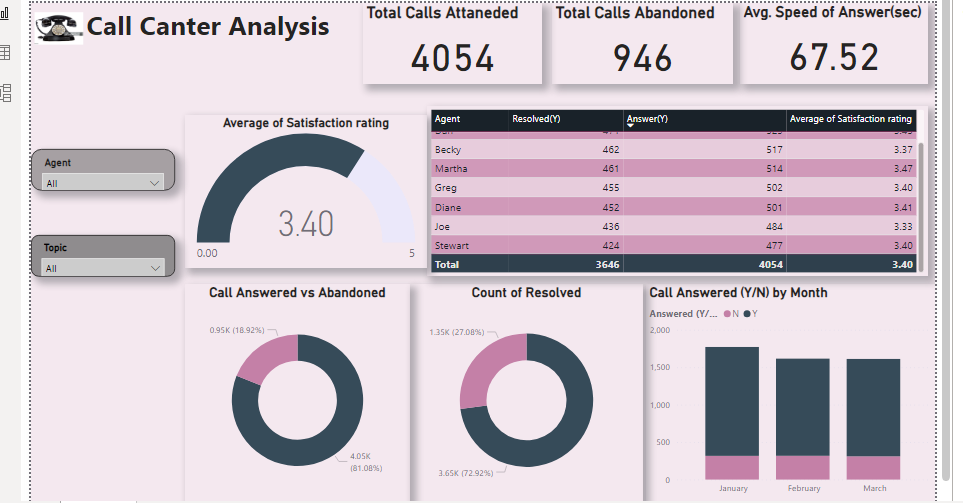

Layout of this report page (visuals, bound fields, positions):
{"tool":"powerbi","page":{"name":"Page 1","canvas":[1280,720],"ordinal":0},"visuals":[{"type":"card","title":"Total Calls Attaneded","fields":{"Values":["Sheet1.Answered (Y/N)"]},"box":[470.1,0,253.5,114.7],"z":0},{"type":"card","title":"Total Calls Abandoned","fields":{"Values":["Sheet1.Answered (Y/N)"]},"box":[737.7,0,256.3,114.7],"z":1000},{"type":"card","title":"Avg.  Speed of Answer(sec)","fields":{"Values":["Sheet1.Speed of answer in seconds"]},"box":[1003.9,0,266.2,114.7],"z":2000},{"type":"gauge","title":"Average of Satisfaction rating ","fields":{"Y":["Sheet1.Satisfaction rating"],"MaxValue":["Sheet1.Satisfaction rating"]},"box":[218.1,158.6,342.7,216.6],"z":3000},{"type":"donutChart","title":"Call Answered vs Abandoned","fields":{"Category":["Sheet1.Answered (Y/N)"],"Y":["Sheet1.Answered (Y/N)"]},"box":[218.1,397.9,318.6,307.3],"z":4000},{"type":"donutChart","title":"Count of Resolved","fields":{"Category":["Sheet1.Resolved"],"Y":["Sheet1.Resolved"]},"box":[536.6,397.9,329.9,307.3],"z":5000},{"type":"columnChart","title":"Call Answered (Y/N) by Month","fields":{"Category":["Sheet1.Date.Variation.Date Hierarchy.Month"],"Y":["Sheet1.Answered (Y/N)"],"Series":["Sheet1.Answered (Y/N)"]},"box":[870.8,397.9,409.2,307.3],"z":6000},{"type":"tableEx","fields":{"Values":["Sheet1.Agent","Sheet1.Resolved(Y)","Sheet1.Answer(Y)","Sheet1.Satisfaction rating"]},"box":[560.9,146.4,708.7,240.6],"z":7000},{"type":"slicer","fields":{"Values":["Sheet1.Agent"]},"box":[0,206.7,203.9,59.5],"z":8000},{"type":"slicer","fields":{"Values":["Sheet1.Topic"]},"box":[0,329,204.3,59.4],"z":9000},{"type":"textbox","box":[0,0,429,72.2],"z":10000},{"type":"image","box":[0,0,79.3,72.2],"z":10001}]}

Visuals, with their boxes in screenshot pixels (x1, y1, x2, y2):
"Total Calls Attaneded" card: x1=362 y1=0 x2=543 y2=82
"Total Calls Abandoned" card: x1=553 y1=0 x2=737 y2=82
"Avg.  Speed of Answer(sec)" card: x1=744 y1=0 x2=934 y2=82
"Average of Satisfaction rating " gauge: x1=181 y1=114 x2=427 y2=269
"Call Answered vs Abandoned" donutChart: x1=181 y1=285 x2=409 y2=502
"Count of Resolved" donutChart: x1=409 y1=285 x2=645 y2=502
"Call Answered (Y/N) by Month" columnChart: x1=648 y1=285 x2=941 y2=502
tableEx - Sheet1.Agent x Sheet1.Resolved(Y): x1=427 y1=105 x2=934 y2=277
slicer - Sheet1.Agent: x1=25 y1=148 x2=171 y2=191
slicer - Sheet1.Topic: x1=25 y1=235 x2=171 y2=278
textbox: x1=25 y1=0 x2=332 y2=52
image: x1=25 y1=0 x2=82 y2=52
